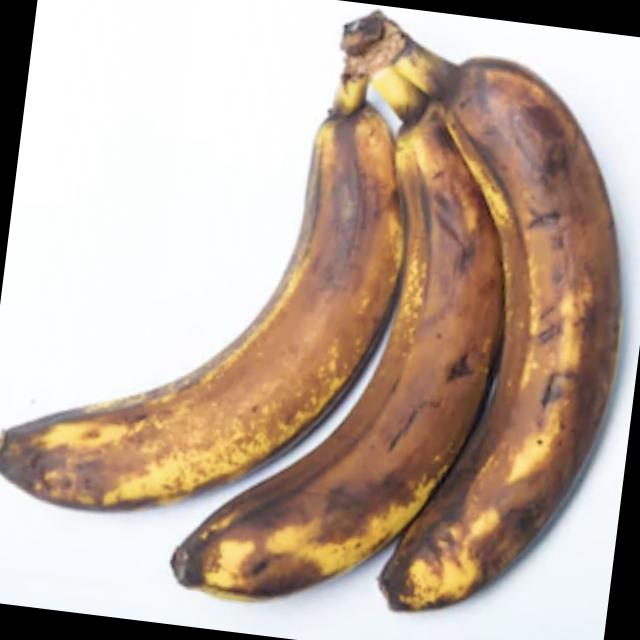rotten-banana: (187, 23, 533, 638), (0, 31, 407, 536), (383, 29, 640, 640)
